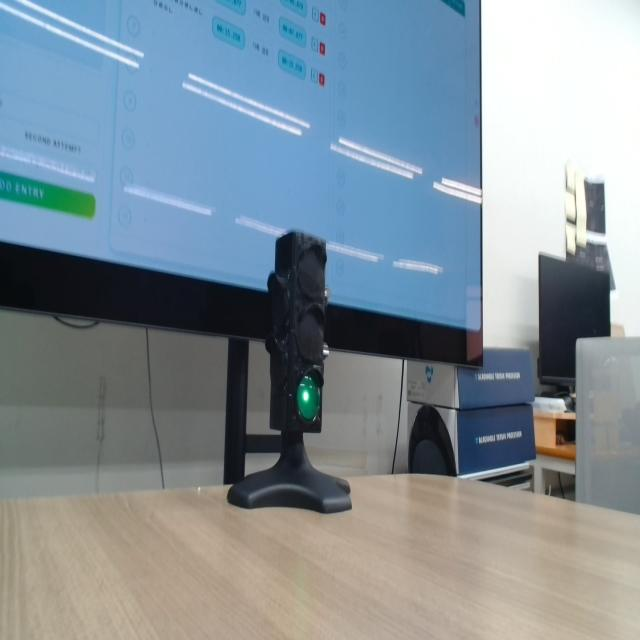green_light: (297, 376, 320, 421)
